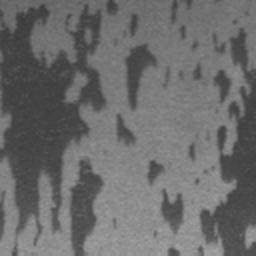Red iron sheet: (0, 0, 119, 256), (147, 27, 256, 256), (116, 13, 170, 143), (170, 0, 192, 41), (189, 143, 195, 159), (168, 248, 179, 256)
